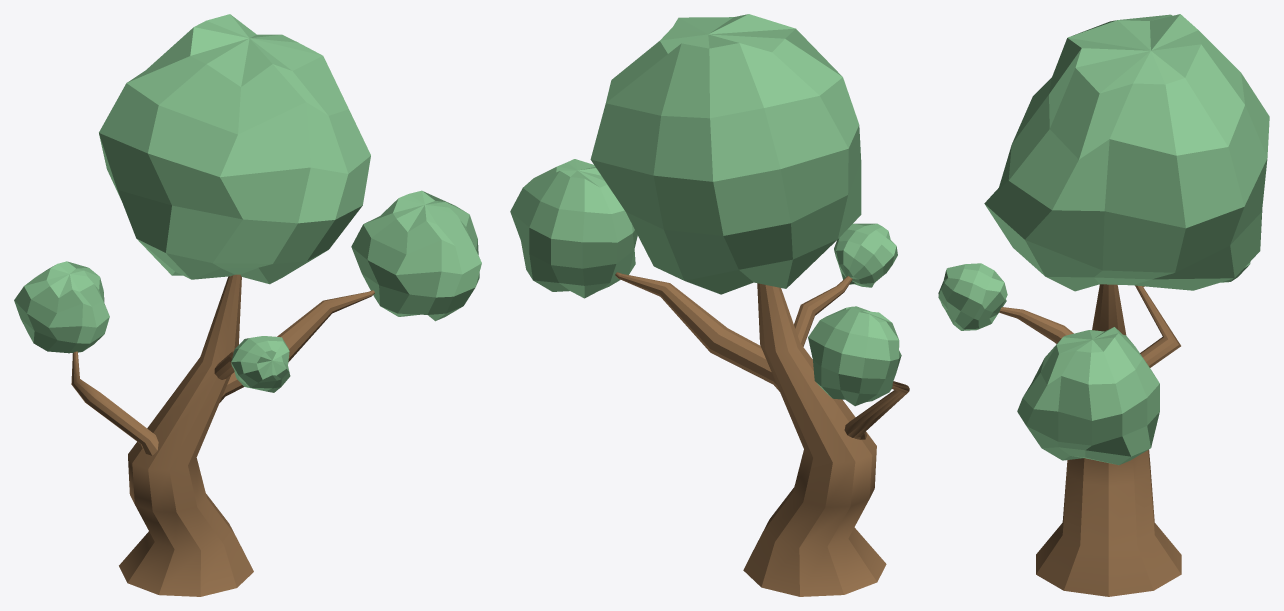
The model's file is TreeLowPoly.fbx.
The picture shows the model from 3 angles, left to right: view 1: azimuth 30°, elevation 25°; view 2: azimuth 150°, elevation 25°; view 3: azimuth 270°, elevation 25°; orthographic projection. The views are drawn at different scales.
Parts seen in each view (by area): view 1: pSphere2, pCylinder1, pSphere1, pSphere3, pSphere4, pCylinder2, pCylinder4; view 2: pSphere2, pCylinder1, pSphere1, pSphere3, pCylinder2, pSphere4, pCylinder4, pCylinder5; view 3: pSphere2, pCylinder1, pSphere1, pSphere4, pCylinder4, pCylinder5.
Boxes of the visible parts, x1,y1,x2,y2 form: pSphere2: [99, 14, 370, 284]; pCylinder1: [119, 274, 253, 596]; pSphere1: [351, 190, 481, 321]; pSphere3: [14, 261, 109, 353]; pSphere4: [231, 336, 290, 392]; pCylinder2: [219, 290, 374, 402]; pCylinder4: [71, 351, 158, 455]; pSphere2: [590, 14, 861, 294]; pCylinder1: [743, 283, 886, 596]; pSphere1: [510, 159, 637, 298]; pSphere3: [808, 306, 901, 406]; pCylinder2: [615, 272, 779, 391]; pSphere4: [834, 223, 897, 287]; pCylinder4: [844, 381, 909, 439]; pCylinder5: [794, 276, 852, 346]; pSphere2: [984, 14, 1269, 291]; pCylinder1: [1036, 284, 1181, 596]; pSphere1: [1017, 327, 1159, 465]; pSphere4: [938, 263, 1007, 330]; pCylinder4: [1135, 285, 1180, 367]; pCylinder5: [999, 307, 1073, 343].
Size of the model in its own units: 2.52 by 3.02 by 1.59.
